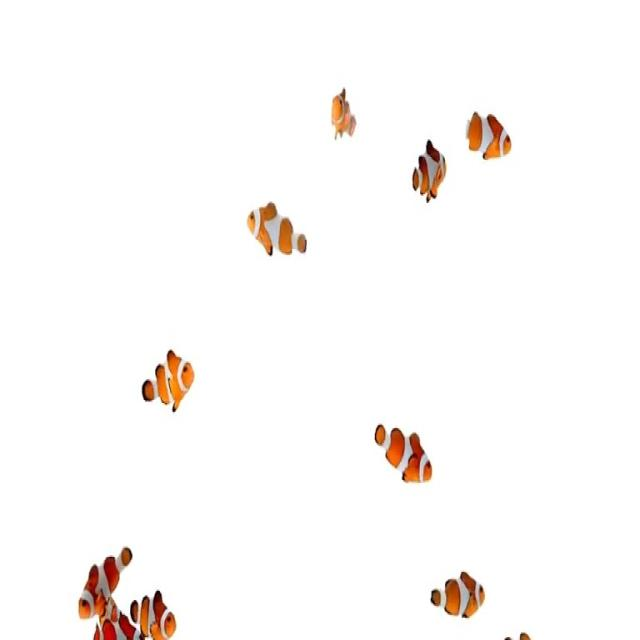fish: (245, 191, 309, 267), (75, 539, 133, 622), (135, 342, 200, 415), (376, 420, 432, 492), (428, 558, 485, 628), (467, 101, 515, 172), (406, 136, 450, 204), (128, 588, 184, 638), (327, 87, 356, 149)
